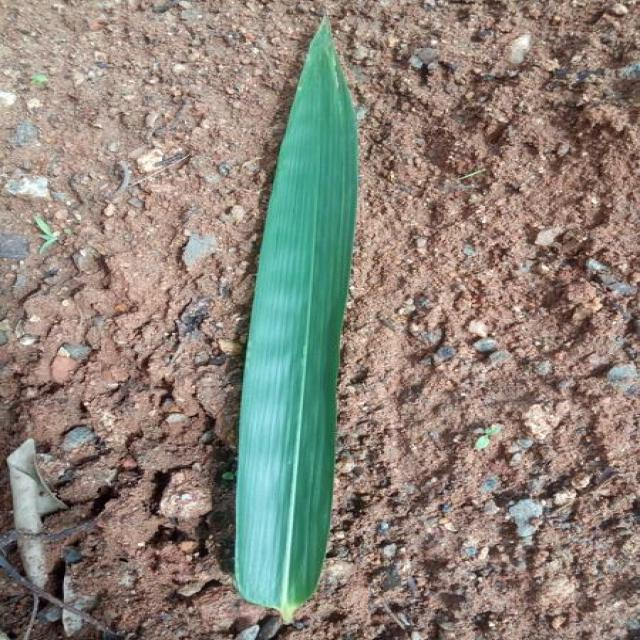Bamboo: (237, 20, 358, 618)
